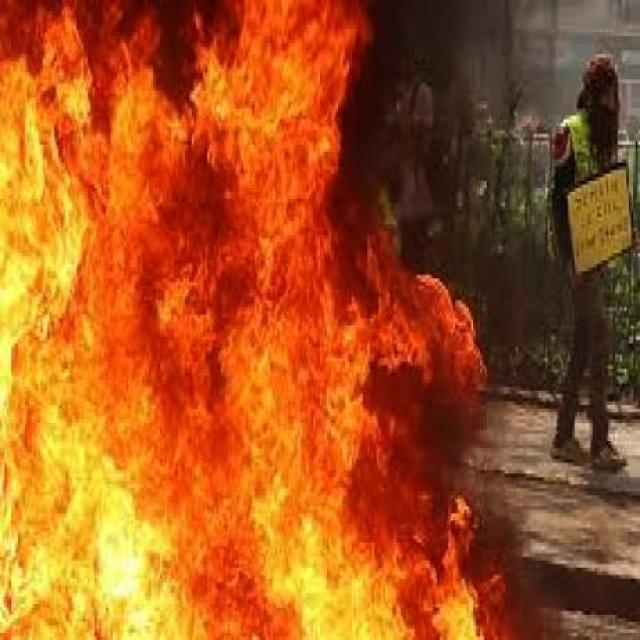Fire: (0, 1, 515, 640)
